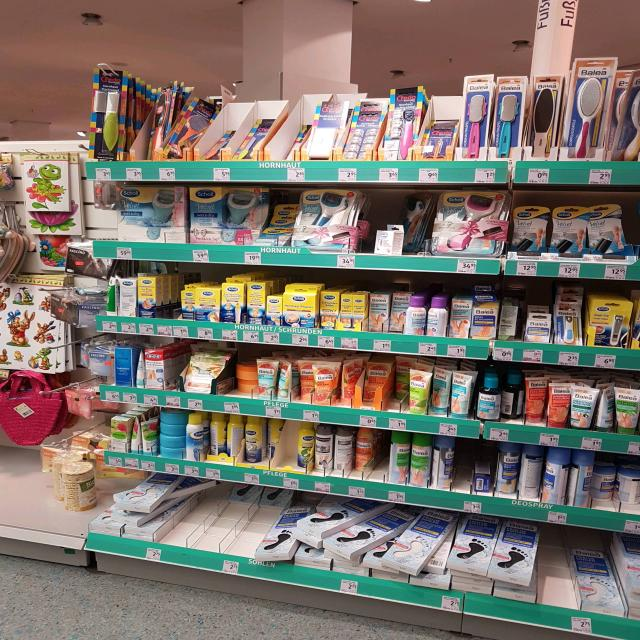empty: (518, 525, 590, 608), (150, 280, 198, 323)
